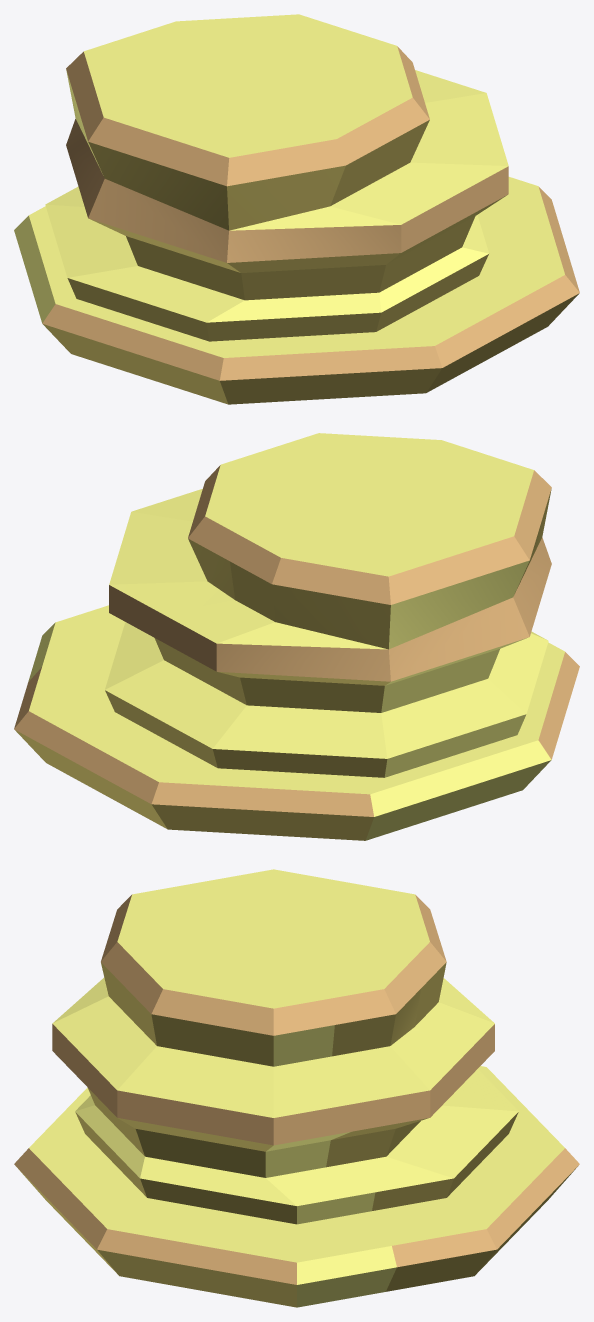
File: Rock_Shelf4.fbx
3 renders of one model, top to bottom at view 1: azimuth 30°, elevation 25°; view 2: azimuth 150°, elevation 25°; view 3: azimuth 270°, elevation 25°, orthographic. The views are drawn at different scales.
Parts seen in each view (by area): view 1: Rock_Shelf4; view 2: Rock_Shelf4; view 3: Rock_Shelf4.
Part boxes in pixels (x1=…): Rock_Shelf4: x1=14, y1=14, x2=579, y2=404; Rock_Shelf4: x1=14, y1=433, x2=579, y2=840; Rock_Shelf4: x1=14, y1=869, x2=579, y2=1307.
Size of what is drawn, in the model's own units: 6634 by 2989 by 6563.
